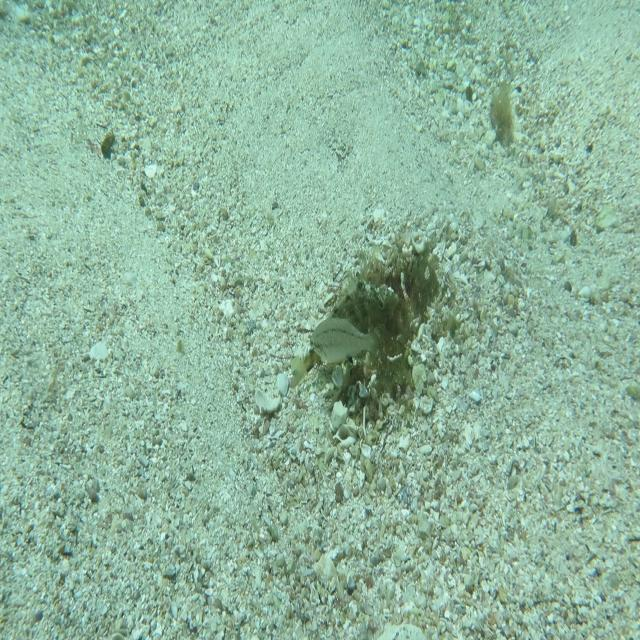LF: (288, 267, 401, 390)
female: (308, 314, 392, 370)
nest: (320, 228, 441, 425)
